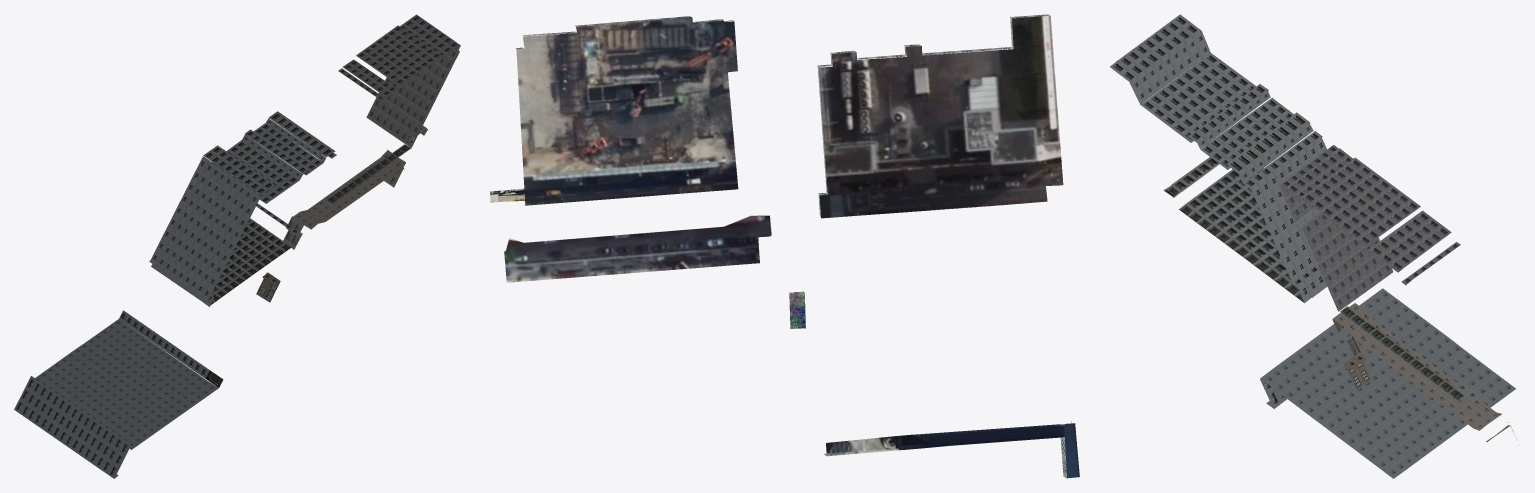
Rendered from tile_LOD4_r5_c15.glb.
3 views of the same model, side by side, from view 1: azimuth 30°, elevation 25°; view 2: azimuth 150°, elevation 25°; view 3: azimuth 270°, elevation 25° (orthographic). The views are drawn at different scales.
Bounding box in the file's own units: 215 × 153 × 135.
29 materials, 29 textured.
